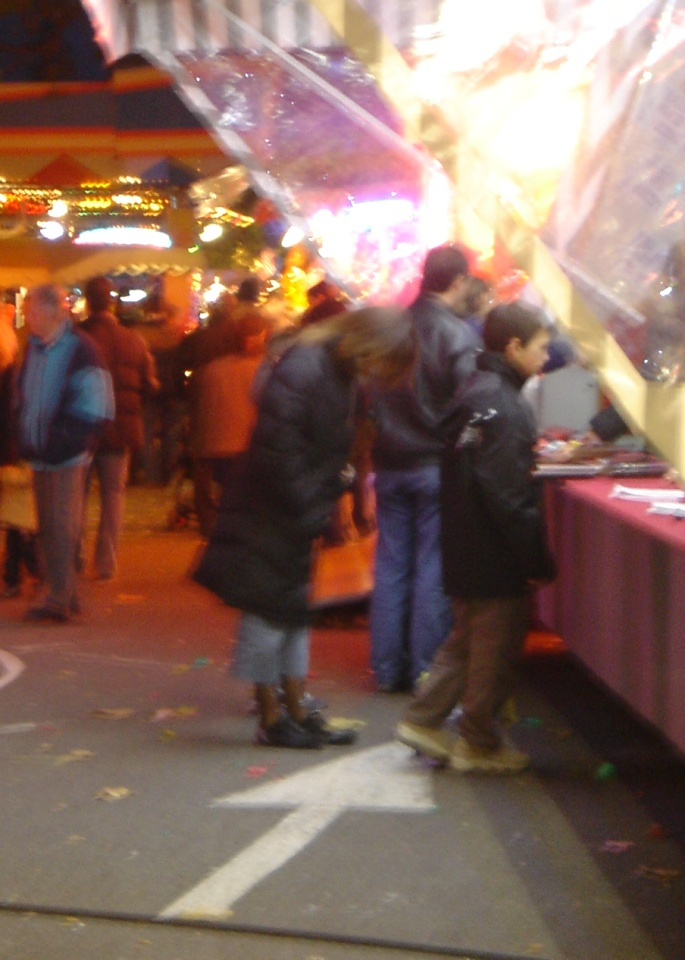person: (234, 298, 360, 752), (363, 235, 486, 699), (437, 303, 556, 778)
